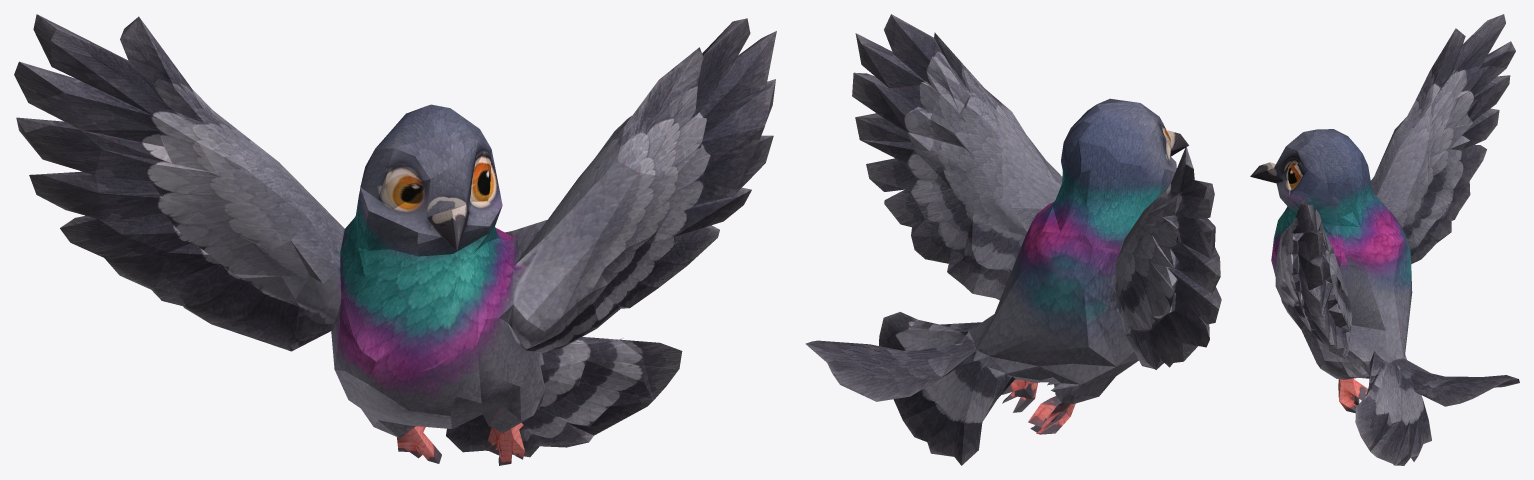
Rendered from pigeon-plain-fly.glb.
The picture shows the model from 3 angles, left to right: view 1: azimuth 30°, elevation 25°; view 2: azimuth 150°, elevation 25°; view 3: azimuth 270°, elevation 25°; orthographic projection. The views are drawn at different scales.
Bounding box in the file's own units: 0.4436 × 0.35 × 0.2655.
Materials: 1 (1 with a texture image).
